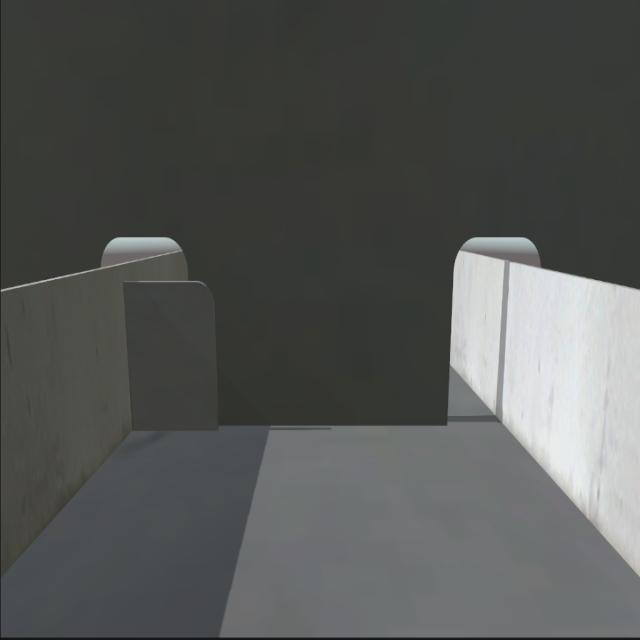fillet_yong_jeop_jang: (127, 413, 453, 441)
longi_yong_jeop_jang: (120, 271, 146, 434)
plate_CP05: (123, 278, 218, 434)
